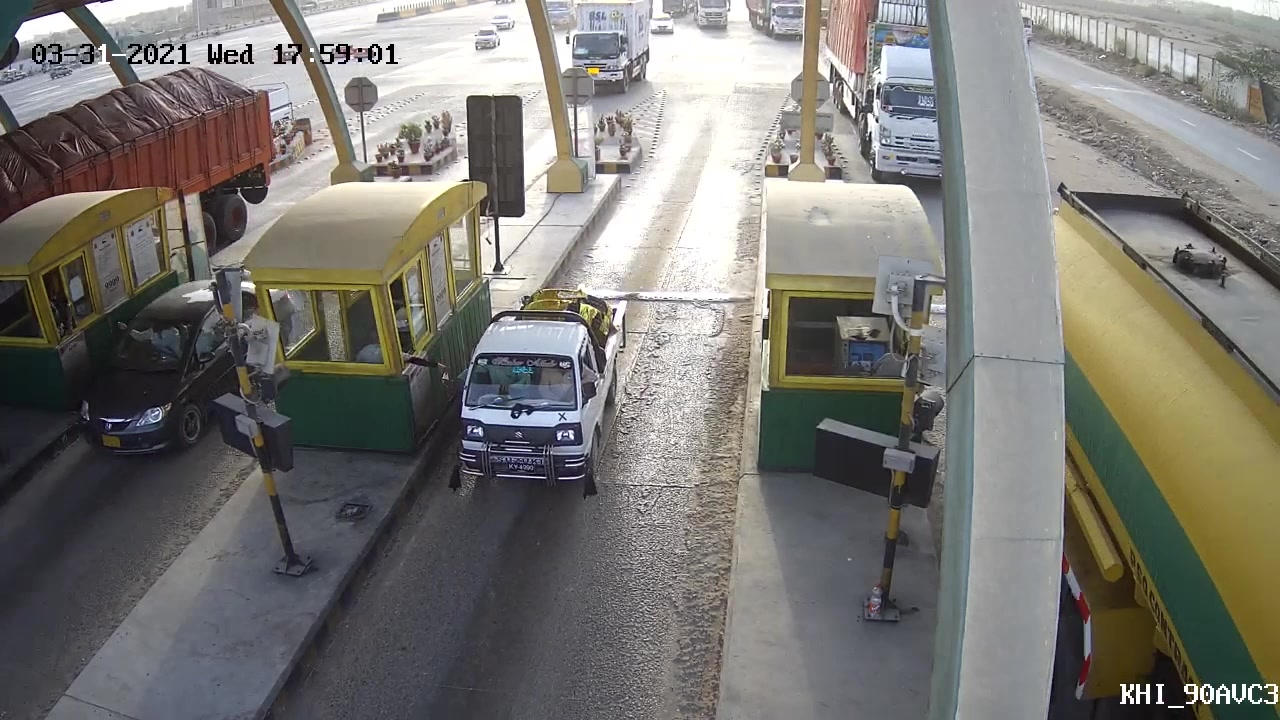F2: (434, 273, 645, 503)
